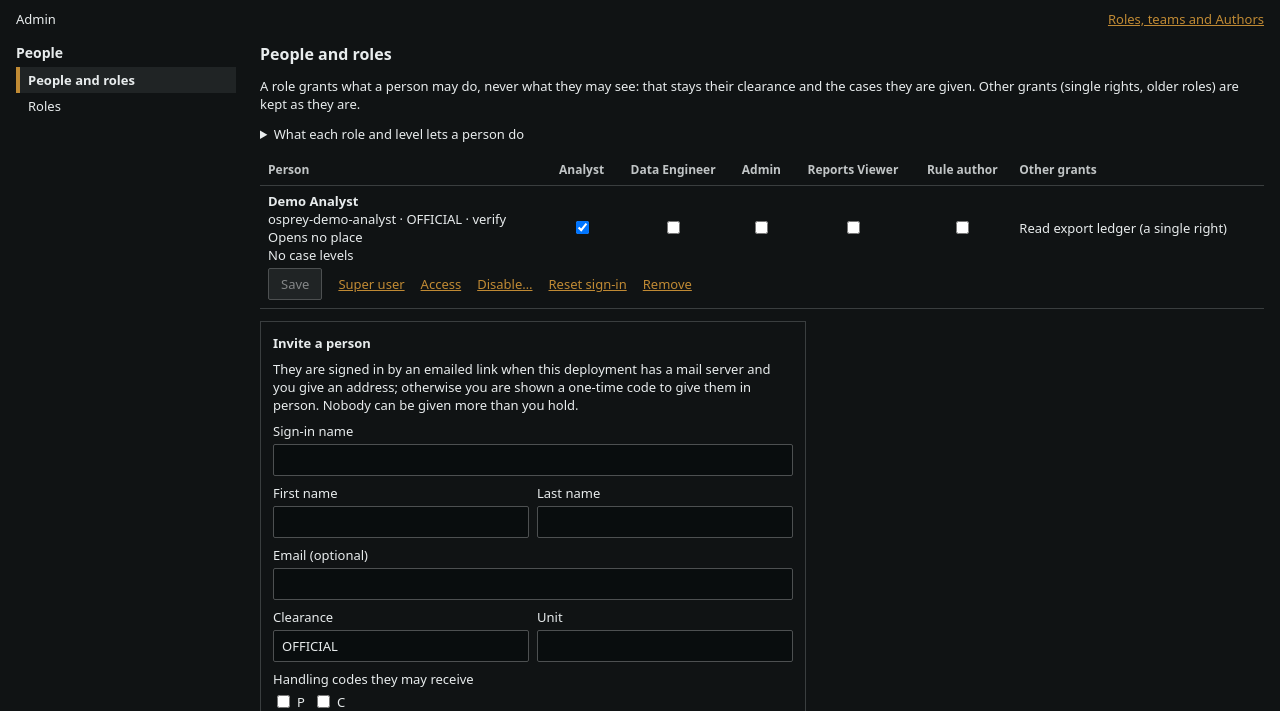
Test case: people: invite, access, disable, enable, reset sign-in › invites a person and hands over their one-time code once, with what to do with it
Expected: the text "Demo Analyst" is shown, [268,192,358,210]
Expected: the dropdown named "Invite clearance" shows "OFFICIAL", [273,630,529,662]
In the field labelled "Sign-in name": point(533, 460) [273,444,793,476], type "new.person"
In the field labelled "First name": point(401, 522) [273,506,529,538], type "New"
In the field labelled "Last name": point(665, 522) [537,506,793,538], type "Person"
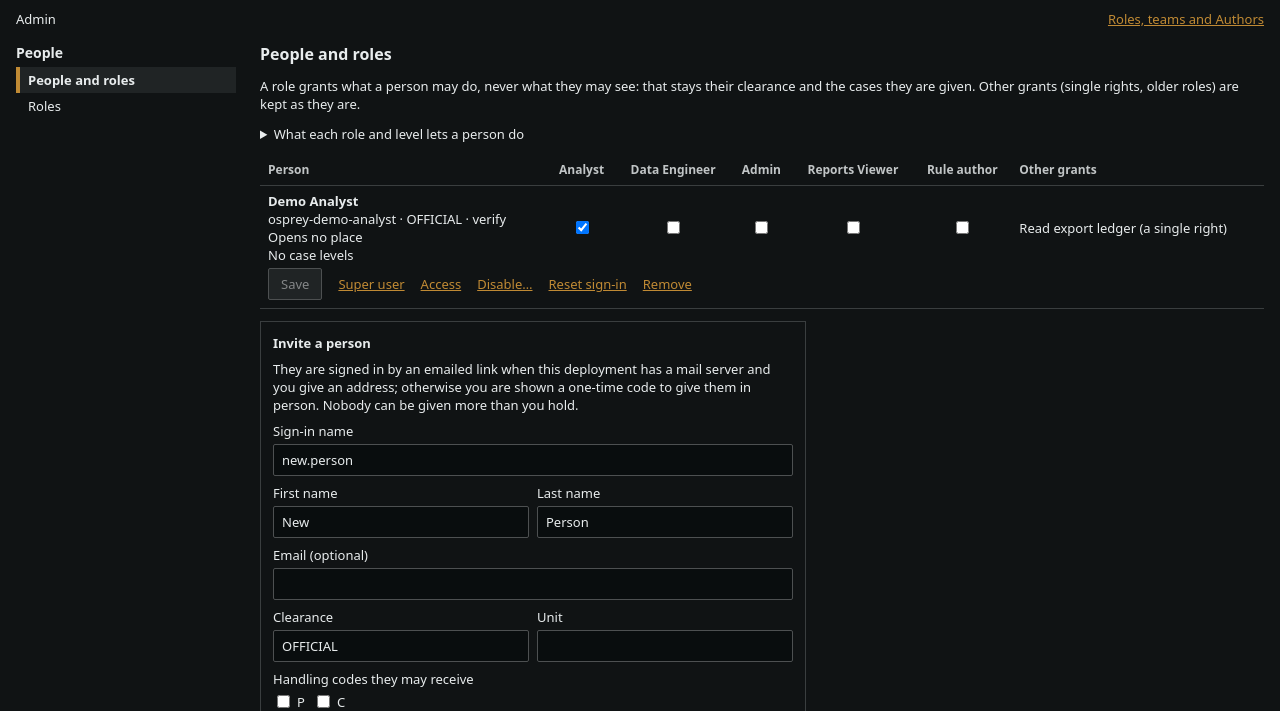
In the field labelled "Email (optional)": point(533, 584) [273,568,793,600], type "new@example.org"
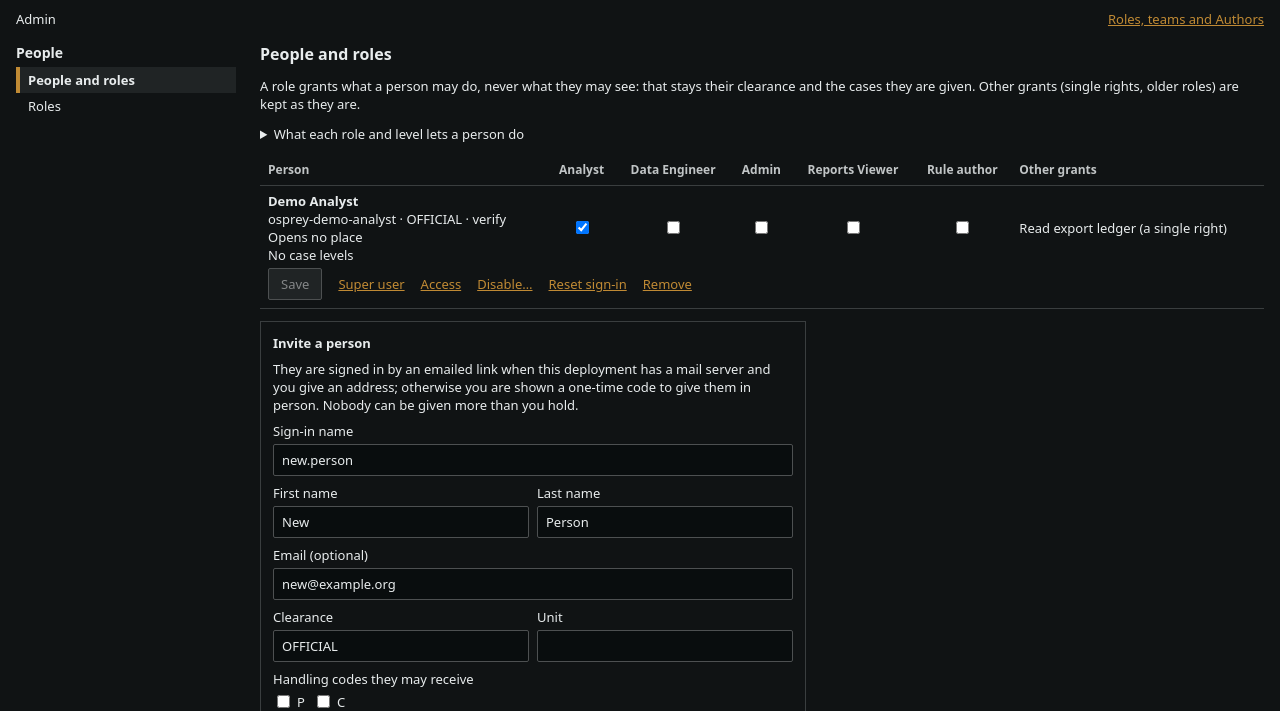
In the field named "Invite unit": point(665, 646) [537,630,793,662], type "verify"
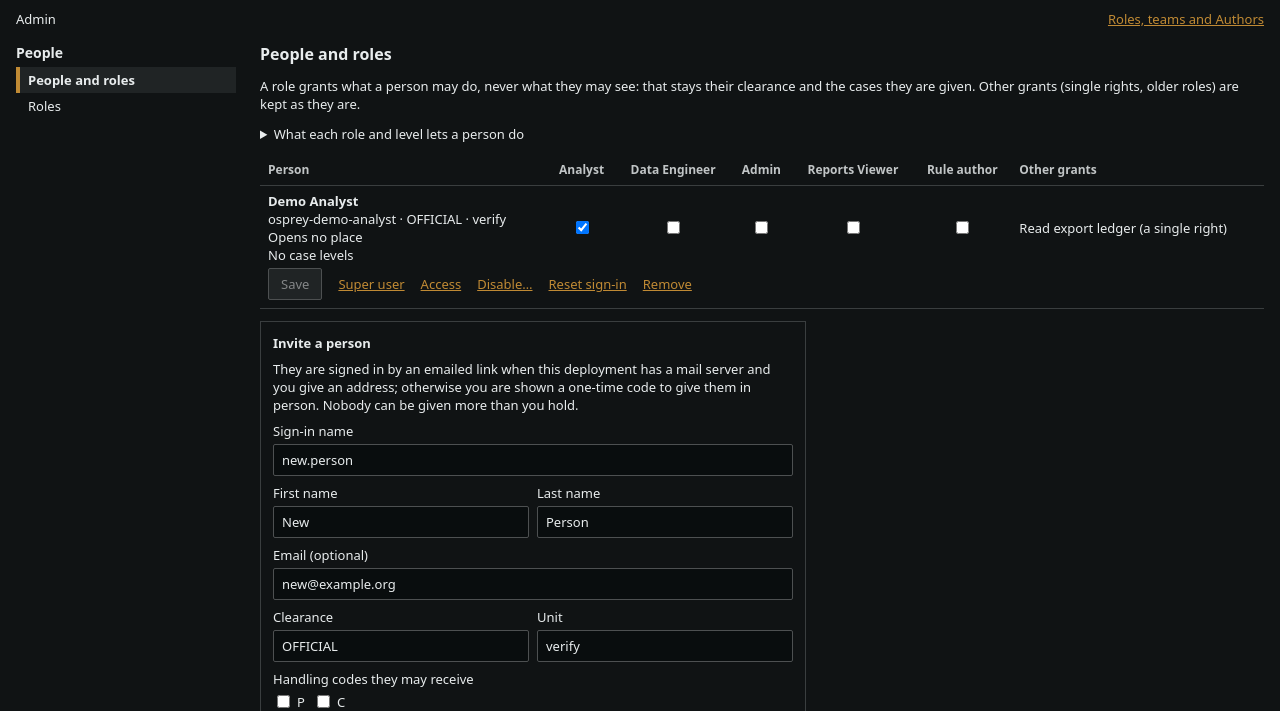
Click the checkbox named "Invite with handling code P": point(284, 702) [277,695,290,708]
(page scrolled)
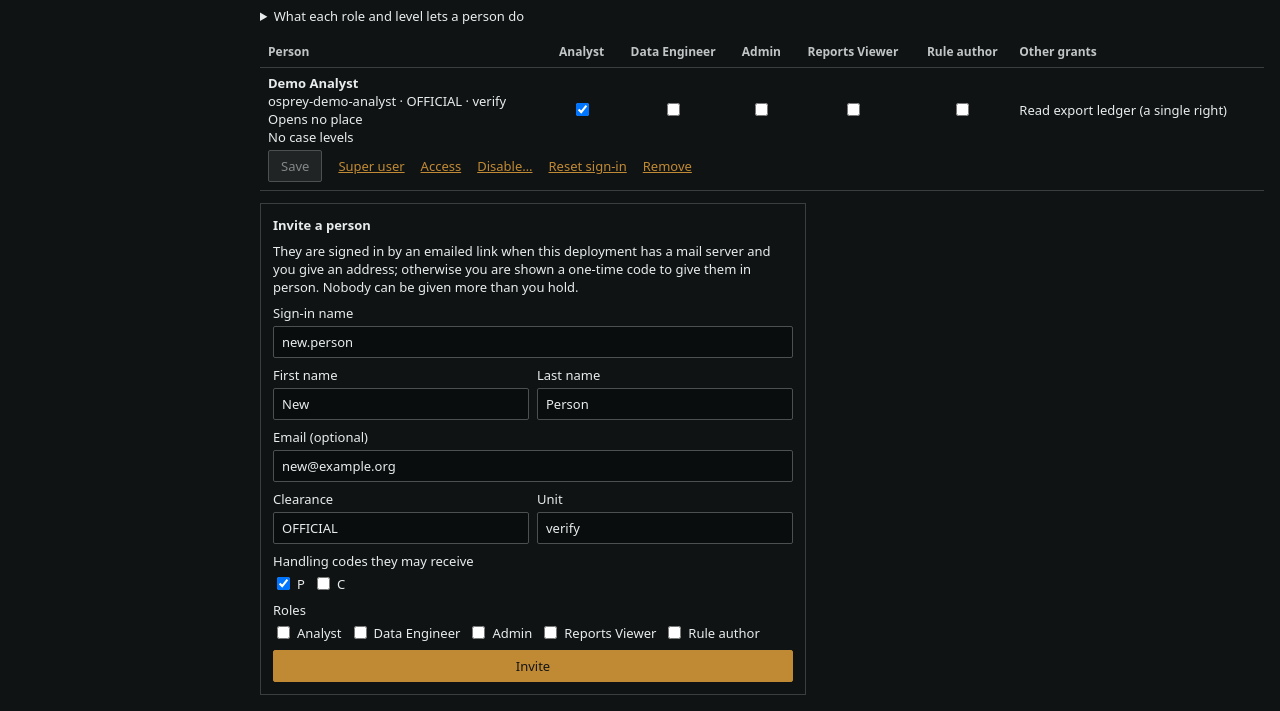
Click the checkbox named "Invite as Analyst": point(284, 632) [277,626,290,639]
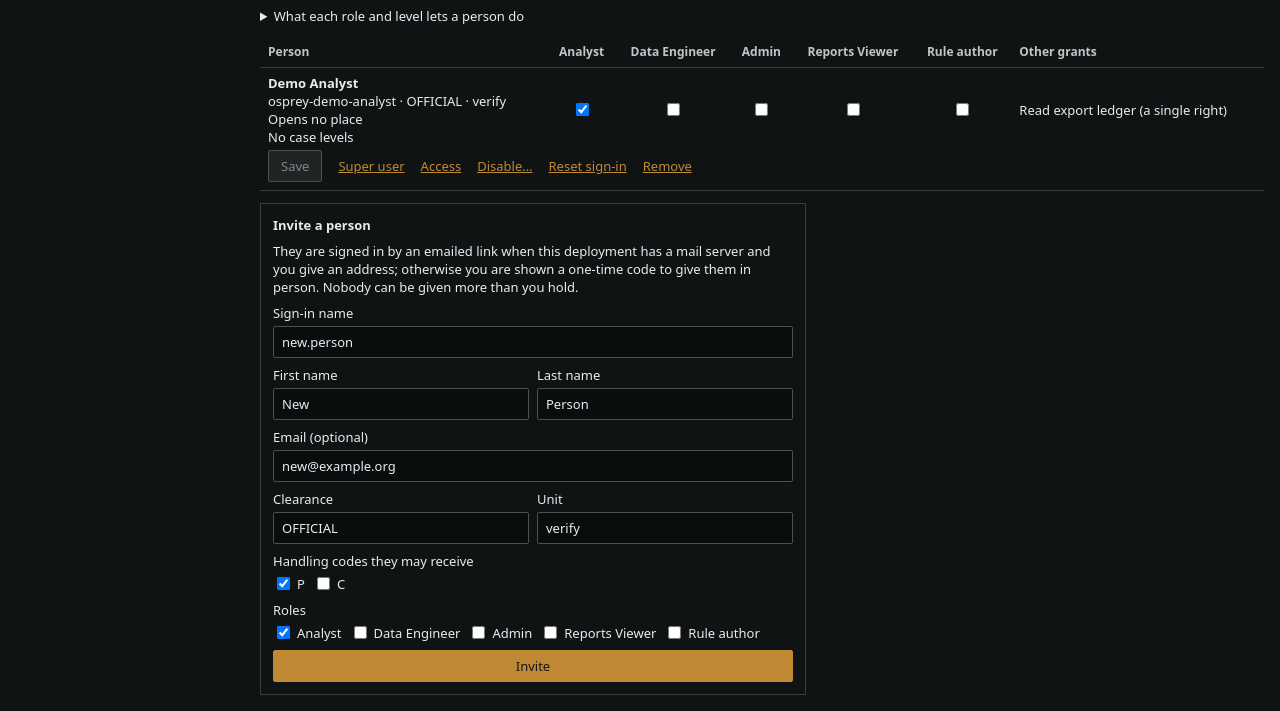
Click the button "Invite": point(533, 666) [273,650,793,682]
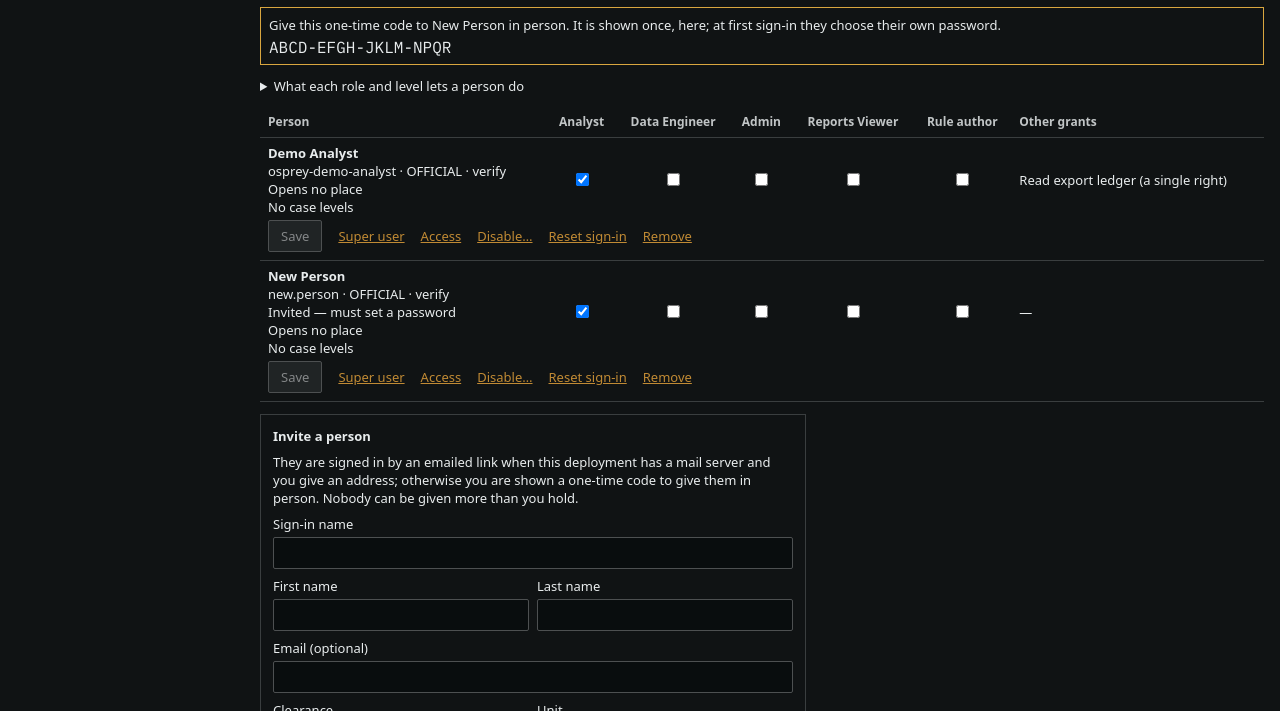
Now the text "ABCD-EFGH-JKLM-NPQR" is shown, box [269,37,451,57]
Now the text "Give this one-time code to New Person in person" is shown, box [269,16,1001,34]
Now the text "Invited — must set a password" is shown, box [268,303,456,321]
